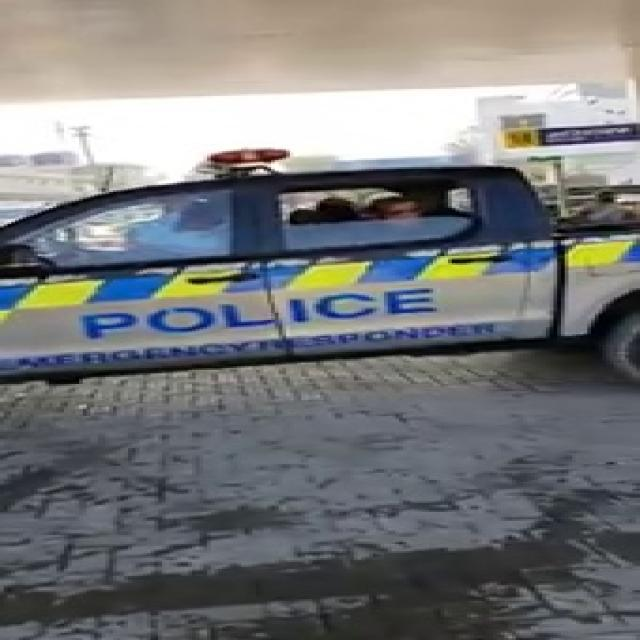police: (0, 200, 640, 365)
